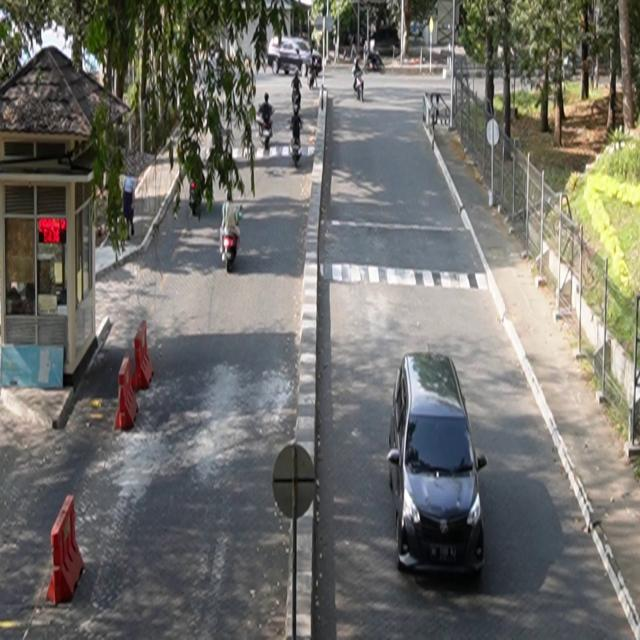car: (388, 351, 488, 578)
